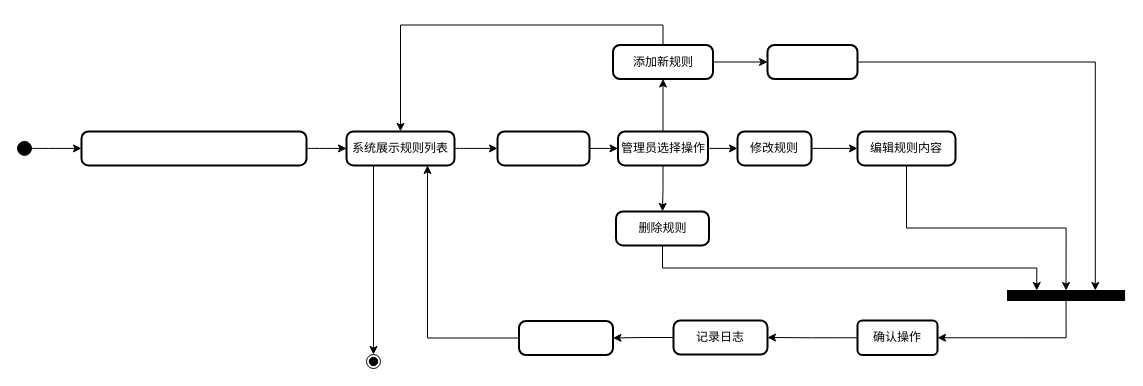
This 1143x386 diagram has some shape labels left out. Each missing label, with the centre of its shape:
"管理员登录并选择“管理交易规则”" belongs at [193,148].
"管理员选择规则" belongs at [543,148].
"输入新规则内容" belongs at [812,62].
"通知所有用户" belongs at [566,338].
